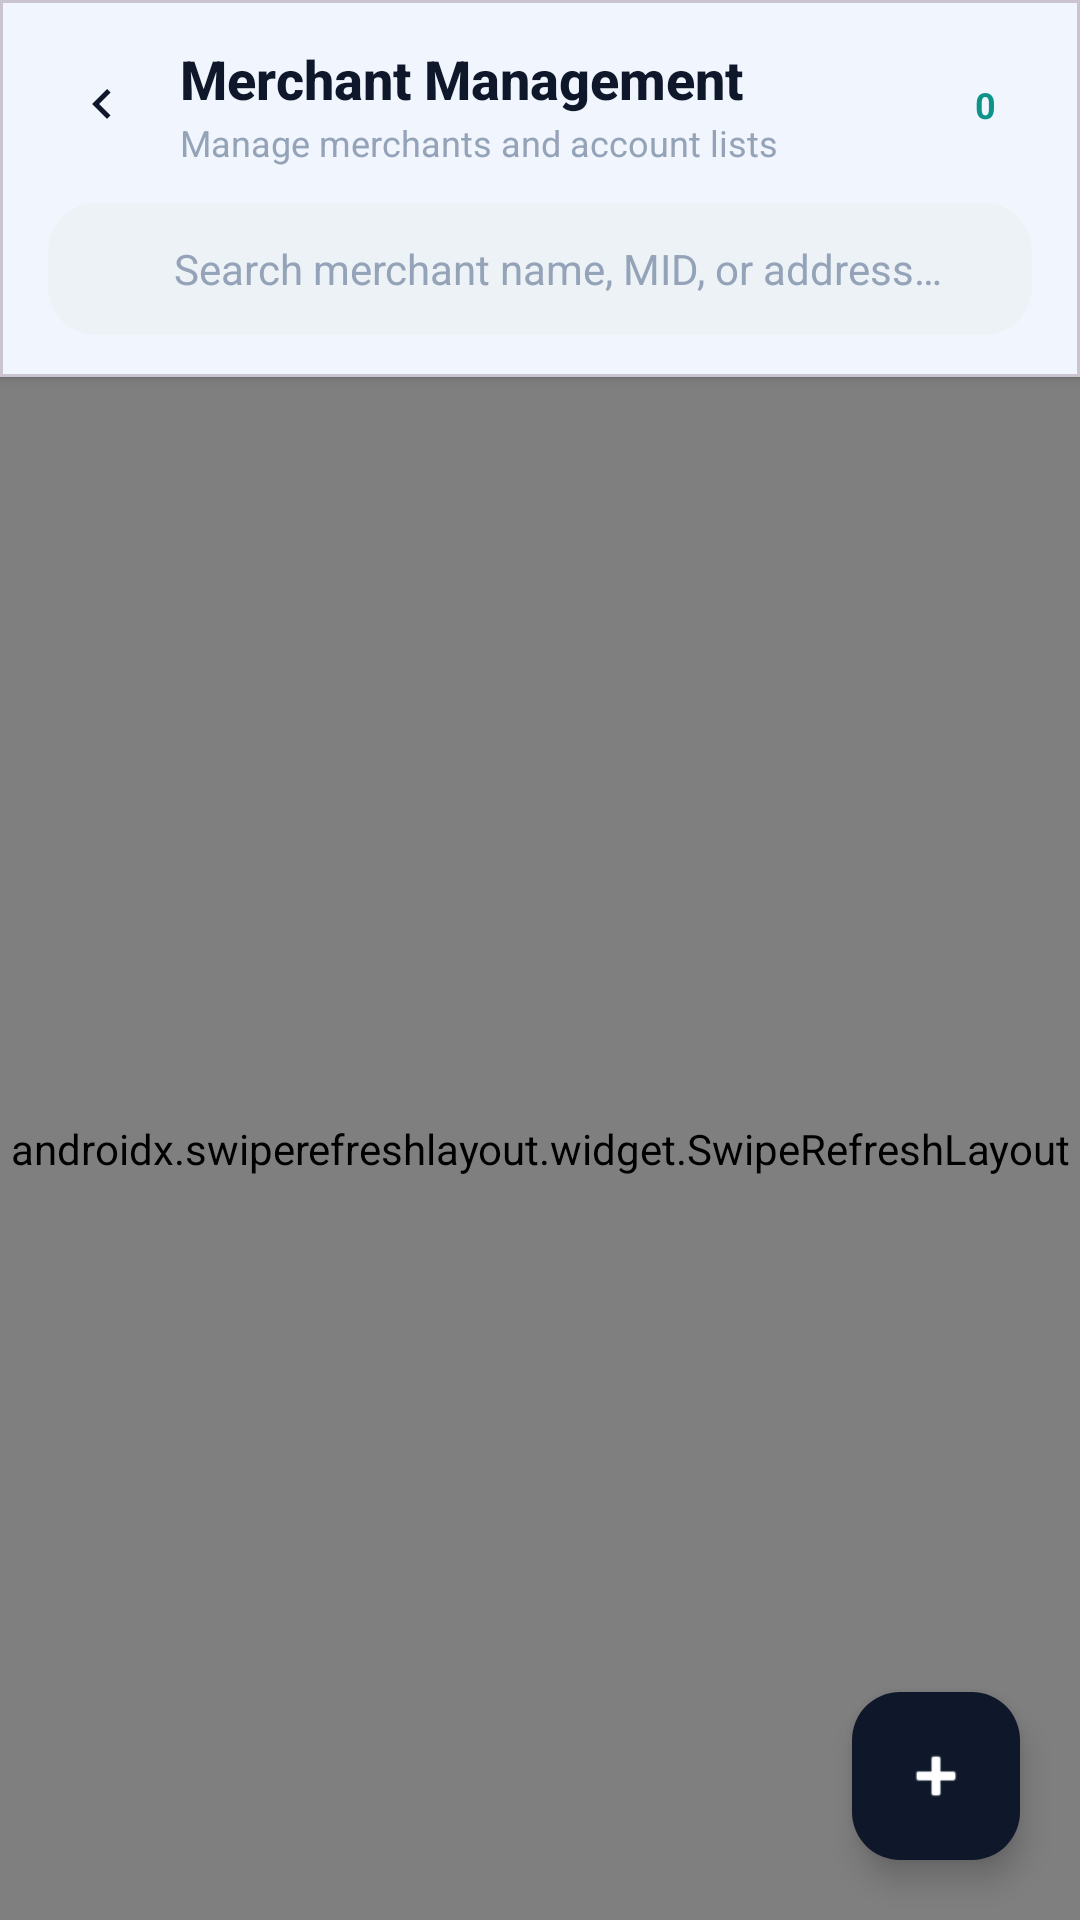

Icon click points for this 1080 × 1920 phone screenshot, format (x,y):
add: (936,1776)
back: (101,104)
